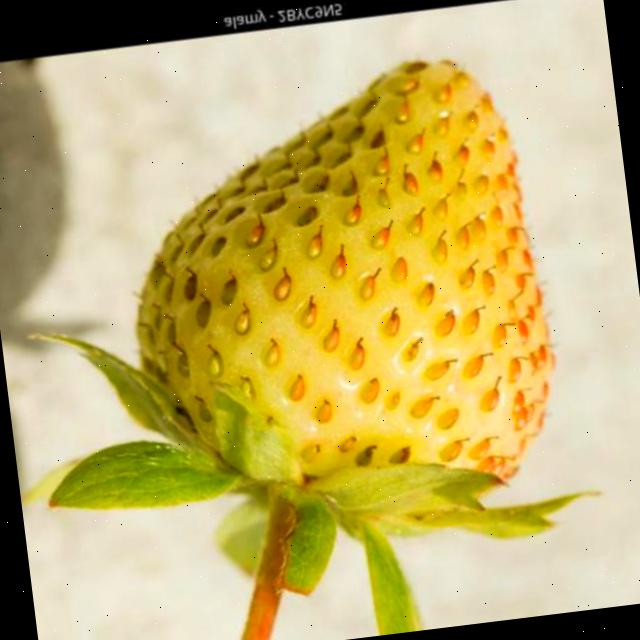strawberry: (108, 51, 566, 547)
